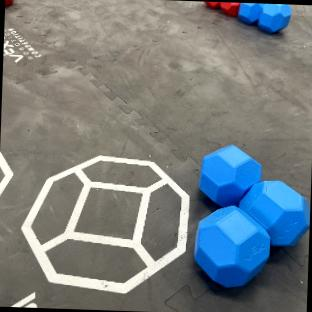V5_BLUE: (193, 145, 310, 287), (195, 206, 269, 287), (241, 181, 310, 245), (200, 145, 261, 206), (258, 4, 291, 32), (237, 3, 262, 23)
V5_RED: (220, 2, 240, 15), (206, 2, 218, 7)
